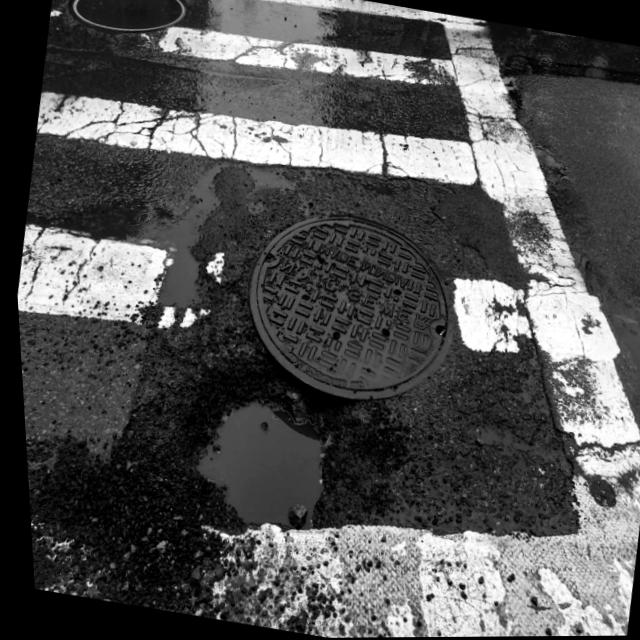pathole: (191, 402, 317, 527), (191, 402, 316, 527)
